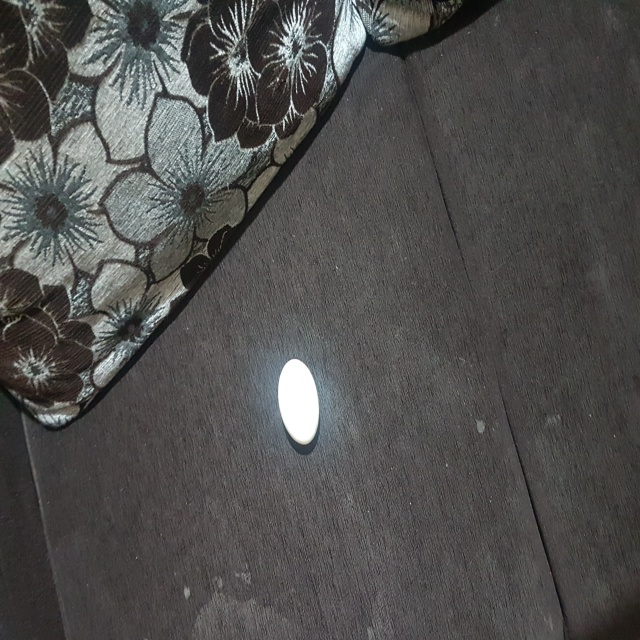eggs: (277, 359, 324, 451)
